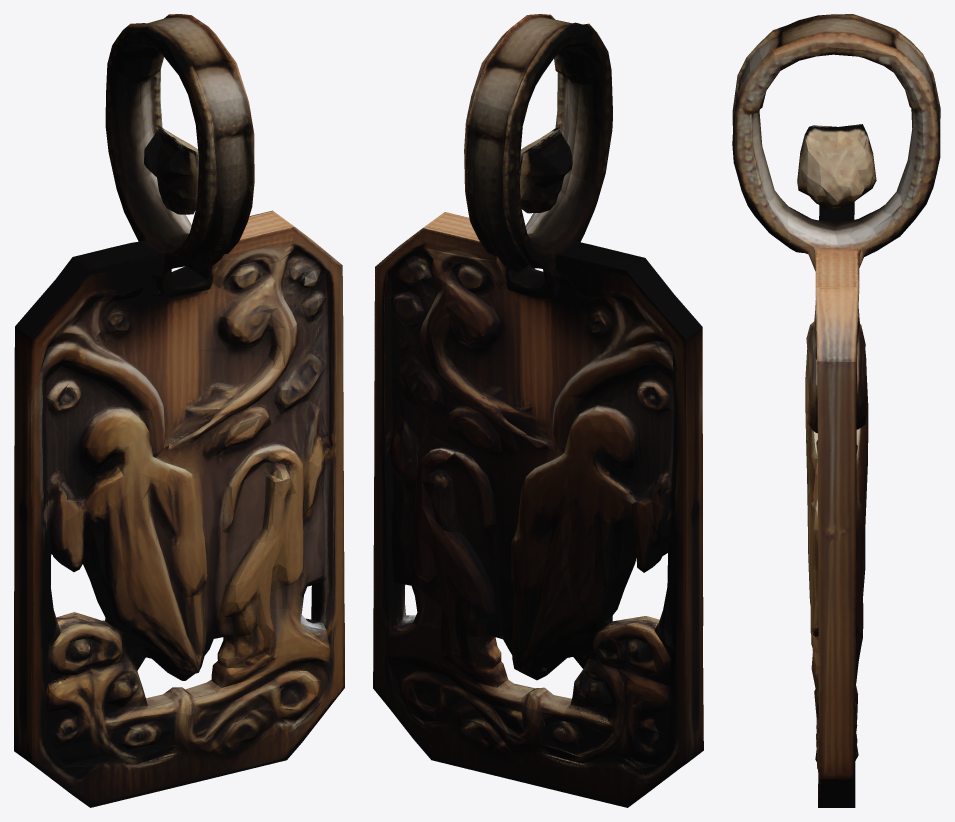
Rendered from wooden-luggage-tag-horror.jpeg.glb.
3 views of the same model, side by side, from view 1: azimuth 30°, elevation 25°; view 2: azimuth 150°, elevation 25°; view 3: azimuth 270°, elevation 25° (orthographic).
Parts seen in each view (by area): view 1: world; view 2: world; view 3: world.
Part boxes in pixels (x1,y1,x2,y2): world: (14,14,344,807); world: (373,14,703,807); world: (732,14,940,807).
Bounding box in the file's own units: 0.4354 × 0.9994 × 0.2555.
1 material, 1 textured.
